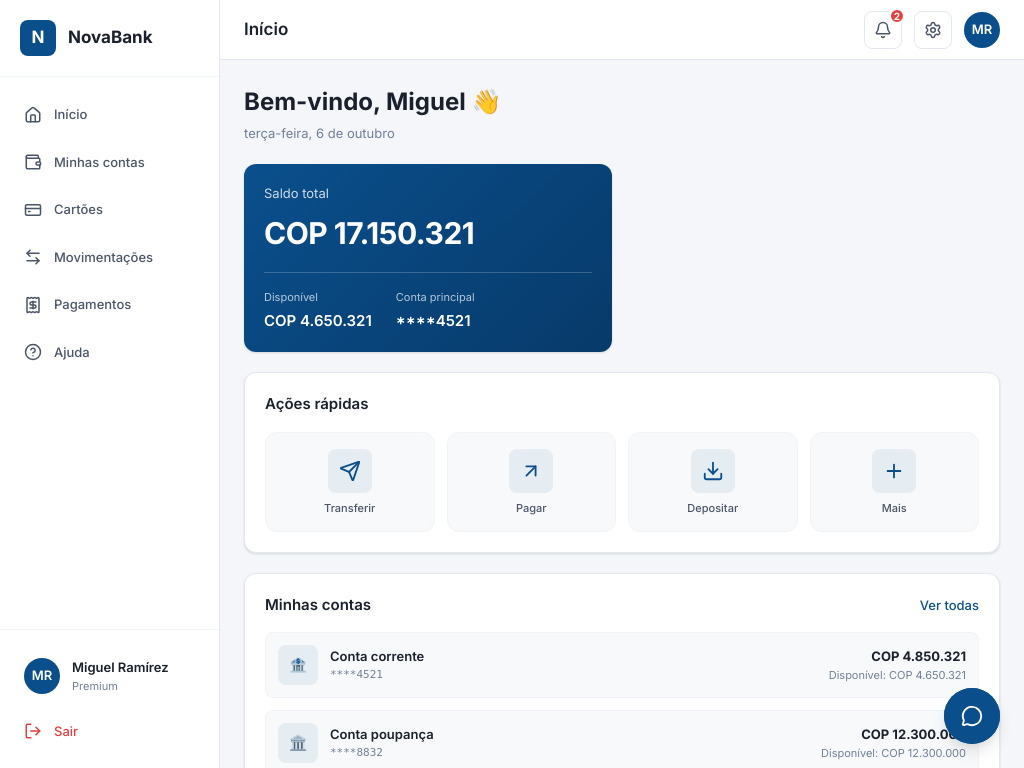
Test case: Portuguese UI › localizes the dashboard, assistant, and transaction detail
Expected: the text "Ações rápidas" is shown, [265,393,368,416]
Expected: the text "Conta corrente" is shown, [330,648,424,664]
Click the button named "Abrir assistente Nova".
click(972, 716)  # box [944,688,1000,744]
(page scrolled)
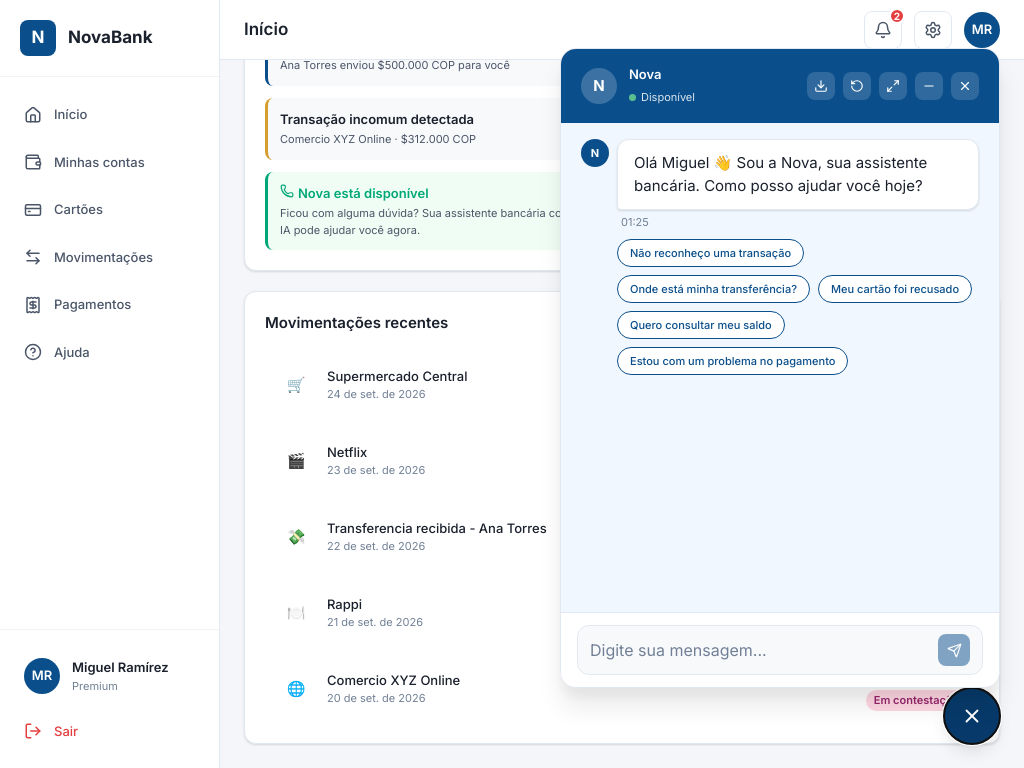
Result: the text "Olá Miguel 👋 Sou a Nova" is shown at [634,153,927,194]
Result: the text box with placeholder "Digite sua mensagem..." is shown at [590,640,930,660]
Click the button with aria-label "Transação: Supermercado Central".
click(397, 376)  # box [265,351,979,419]
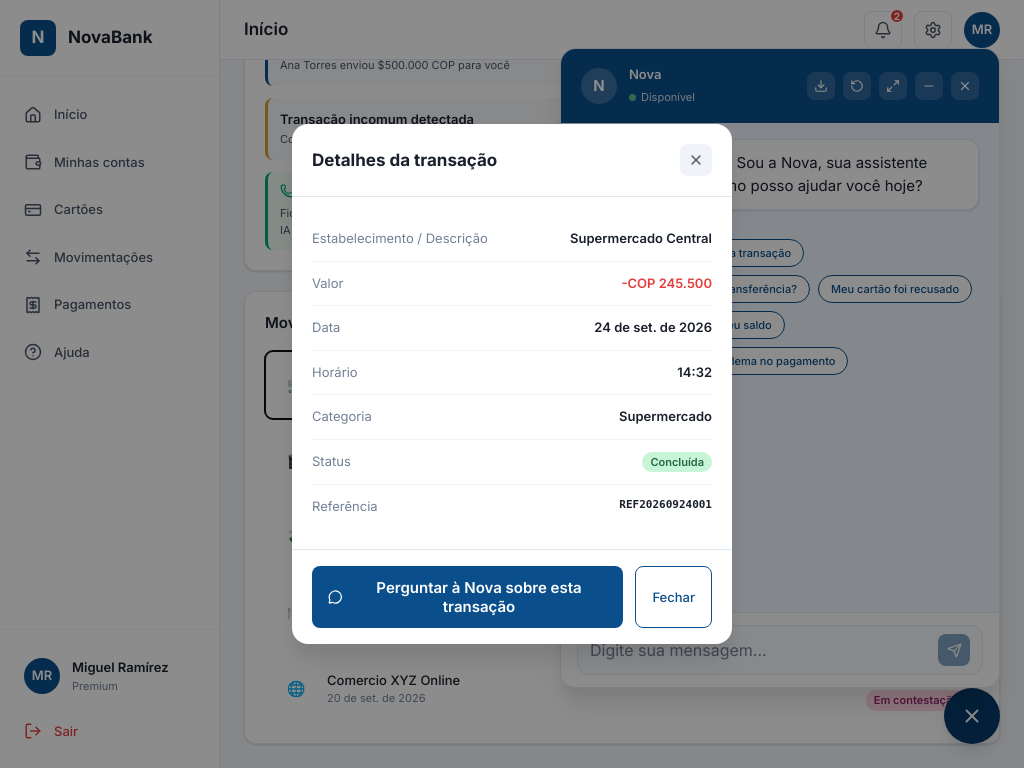
Result: the heading "Detalhes da transação" is shown at [312,148,497,173]
Result: the text "Estabelecimento / Descrição" is shown at [312,229,488,249]
Result: the text "Supermercado" is shown at [619,407,712,427]
